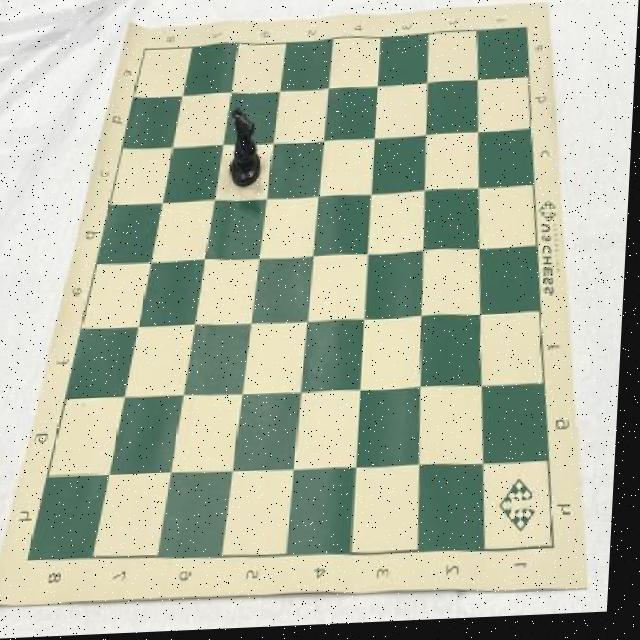black-king: (229, 107, 266, 191)
